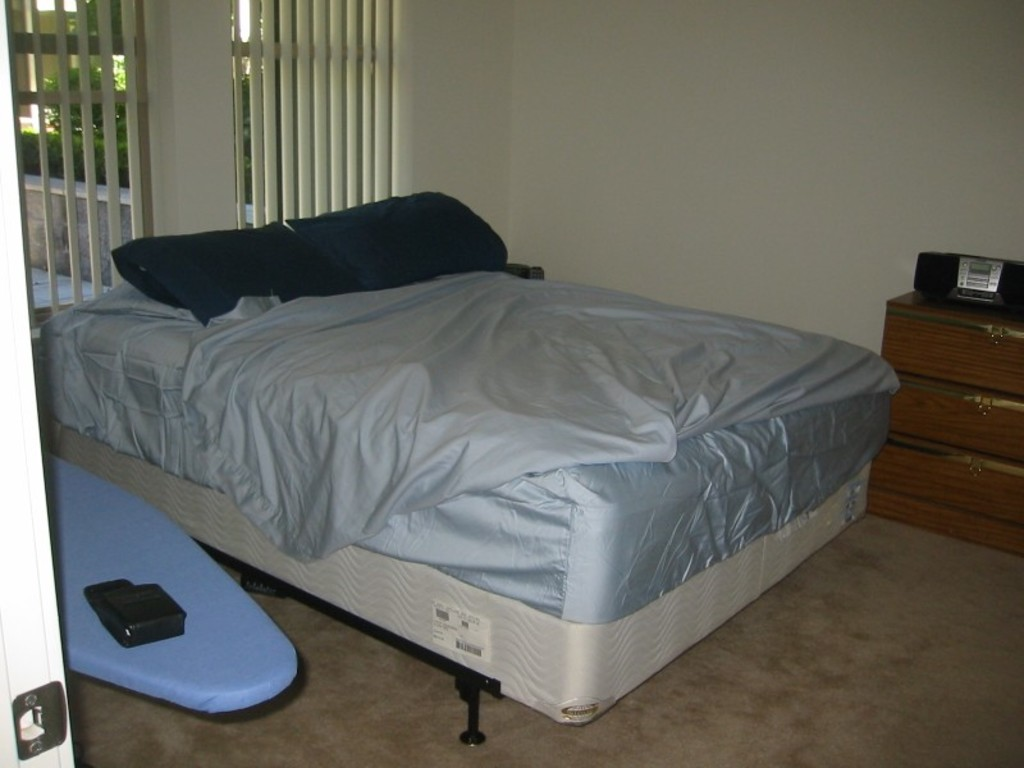cabinet door: (887, 443, 1024, 515), (898, 308, 1024, 383), (899, 382, 1024, 443)
